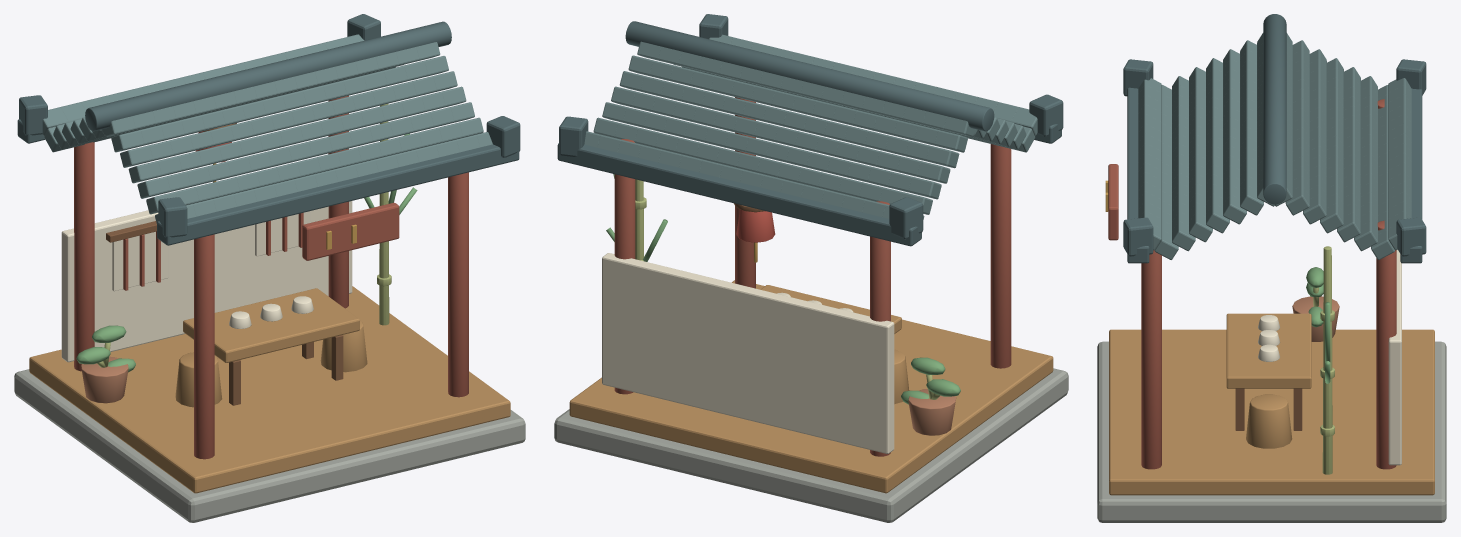
Rendered from building_tea_pavilion_open.glb.
The picture shows the model from 3 angles, left to right: view 1: azimuth 30°, elevation 25°; view 2: azimuth 150°, elevation 25°; view 3: azimuth 270°, elevation 25°; orthographic projection. The views are drawn at different scales.
Visible parts, largest first — view 1: RaisedFloor.006, PavilionBackScreen, Foundation.006, EaveBeam.012, RoofRidge.006, WorkTableTop.005, PavilionPost, PavilionPost.002, PavilionPost.001, Signboard.005, WindowPaper.003, PlantPot.002 (+9 smaller); view 2: PavilionBackScreen, RaisedFloor.006, Foundation.006, EaveBeam.013, RoofRidge.006, PavilionPost, PavilionPost.003, PavilionPost.001, PlantPot.002, PavilionPost.002, EaveTip.026, LanternFrame.005 (+6 smaller); view 3: RaisedFloor.006, Foundation.006, WorkTableTop.005, RoofRidge.006, PavilionPost.002, PavilionPost.003, PavilionBackScreen, TeaStool.001, EaveBeam.012, EaveBeam.013, BambooStem.002, EaveTip.025 (+19 smaller).
Part boxes in pixels (<box>): RaisedFloor.006: <box>29,286,510,493</box>; PavilionBackScreen: <box>61,201,352,362</box>; Foundation.006: <box>14,369,525,522</box>; EaveBeam.012: <box>157,144,519,245</box>; RoofRidge.006: <box>85,21,451,131</box>; WorkTableTop.005: <box>183,288,359,362</box>; PavilionPost: <box>194,234,214,459</box>; PavilionPost.002: <box>448,172,468,397</box>; PavilionPost.001: <box>74,142,94,371</box>; Signboard.005: <box>302,202,399,260</box>; WindowPaper.003: <box>112,231,168,291</box>; PlantPot.002: <box>81,356,128,403</box>; PavilionBackScreen: <box>602,253,894,453</box>; RaisedFloor.006: <box>569,280,1053,493</box>; Foundation.006: <box>554,368,1068,522</box>; EaveBeam.013: <box>557,143,921,246</box>; RoofRidge.006: <box>625,21,994,131</box>; PavilionPost: <box>990,144,1011,368</box>; PavilionPost.003: <box>614,139,635,394</box>; PavilionPost.001: <box>870,201,890,456</box>; PlantPot.002: <box>908,389,956,435</box>; PavilionPost.002: <box>735,97,755,288</box>; EaveTip.026: <box>889,197,923,239</box>; LanternFrame.005: <box>736,209,775,242</box>; RaisedFloor.006: <box>1109,329,1434,495</box>; Foundation.006: <box>1097,341,1446,522</box>; WorkTableTop.005: <box>1226,313,1311,388</box>; RoofRidge.006: <box>1263,14,1286,204</box>; PavilionPost.002: <box>1141,250,1161,469</box>; PavilionPost.003: <box>1376,220,1396,469</box>; PavilionBackScreen: <box>1388,249,1401,465</box>; TeaStool.001: <box>1246,394,1292,448</box>; EaveBeam.012: <box>1127,87,1149,263</box>; EaveBeam.013: <box>1400,88,1422,263</box>; BambooStem.002: <box>1322,246,1332,474</box>; EaveTip.025: <box>1123,217,1153,256</box>.
Bounding box in the file's own units: 2.74 × 2.6 × 2.38.
